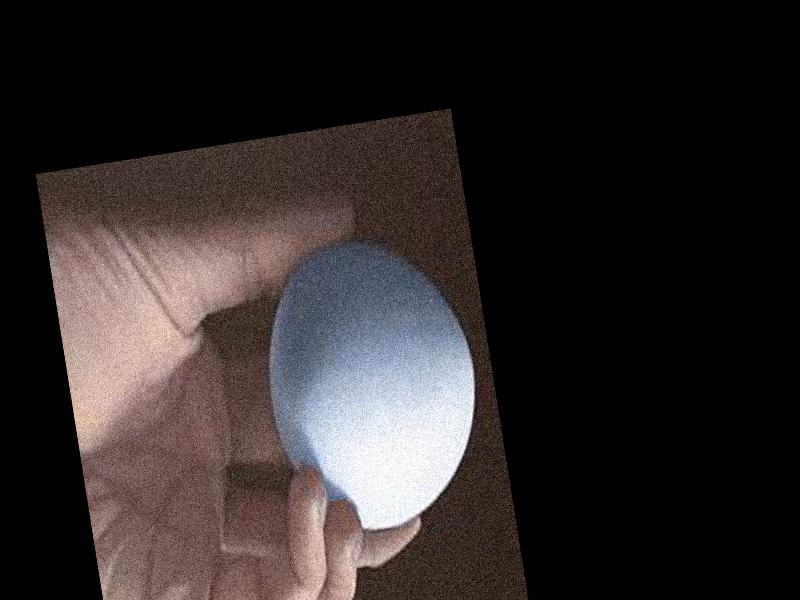Eggs: (251, 228, 498, 545)
